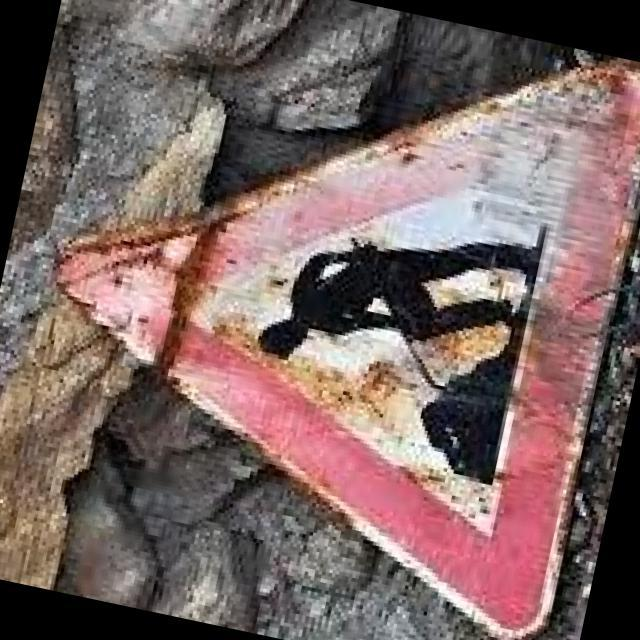obstructed_road_sign: (42, 55, 640, 640)
